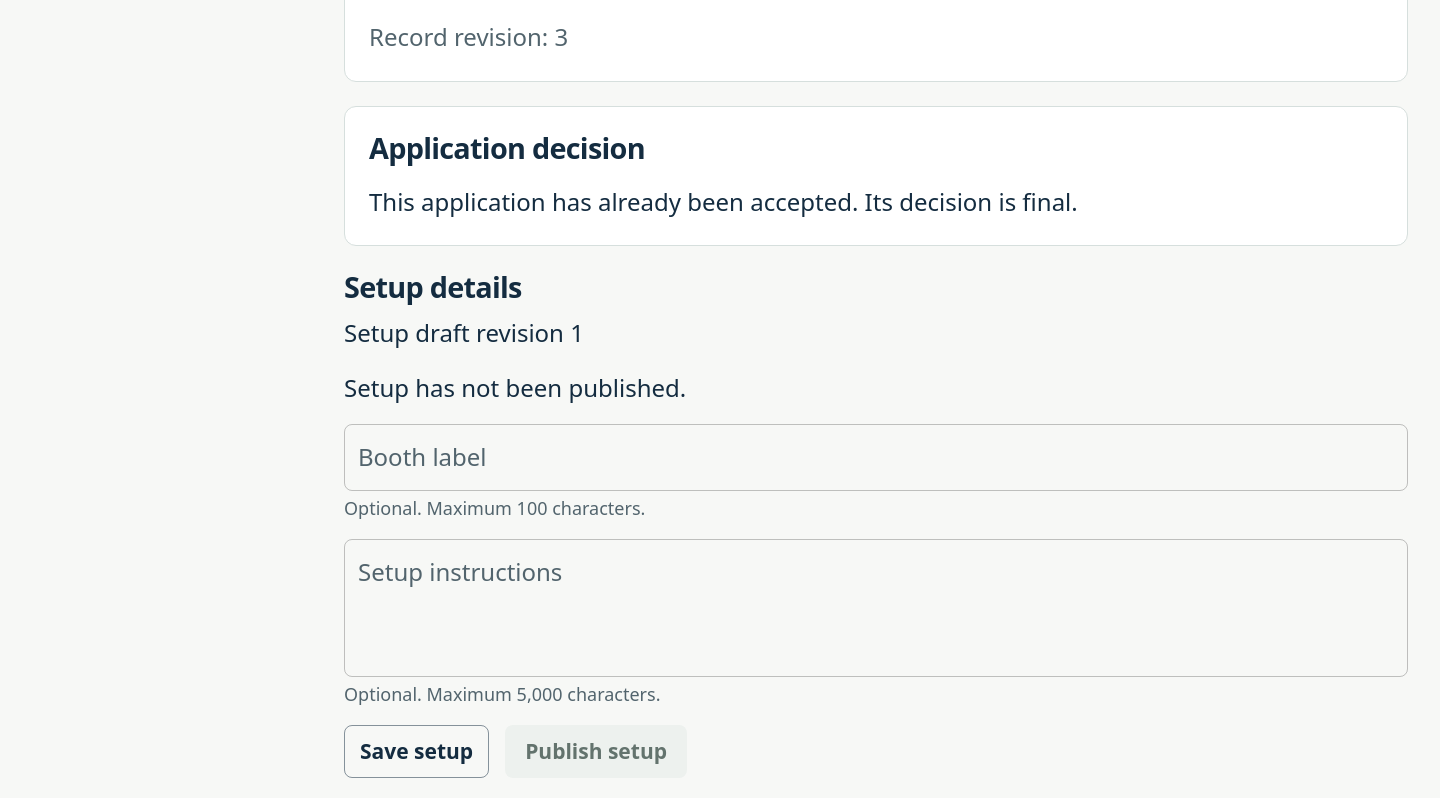
Test: AC05 rejected publication maps safe field error and retains edited facts without replay
This screenshot has width=1440, height=798.
(page scrolled)
Type "PRIVATE-BOOTH-A1" into the field labelled "Booth label". click: (876, 458)
box: [344, 424, 1408, 491]
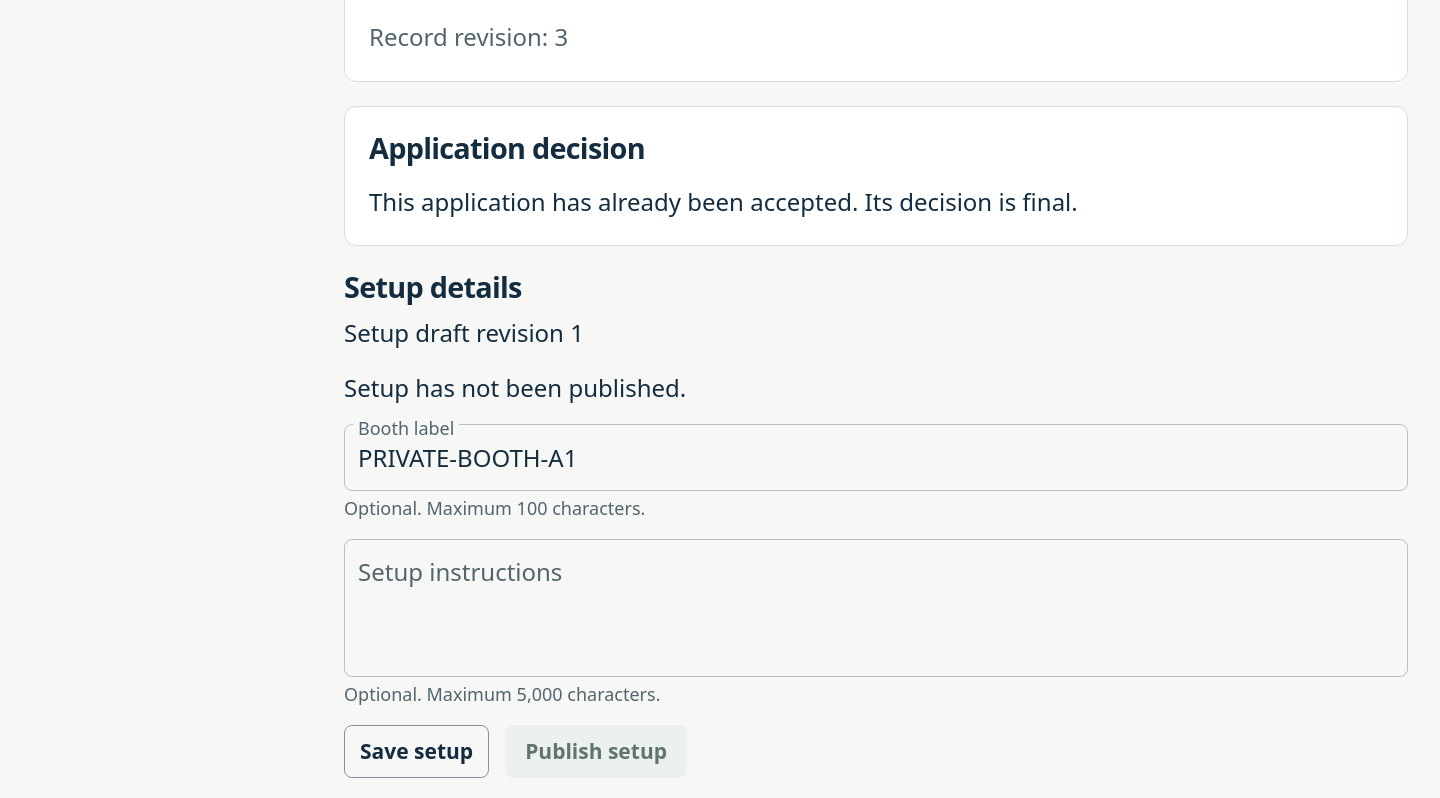
Type "PRIVATE-SETUP-INSTRUCTIONS" into the text box labelled "Setup instructions". click: (876, 608)
box: [358, 556, 1394, 661]
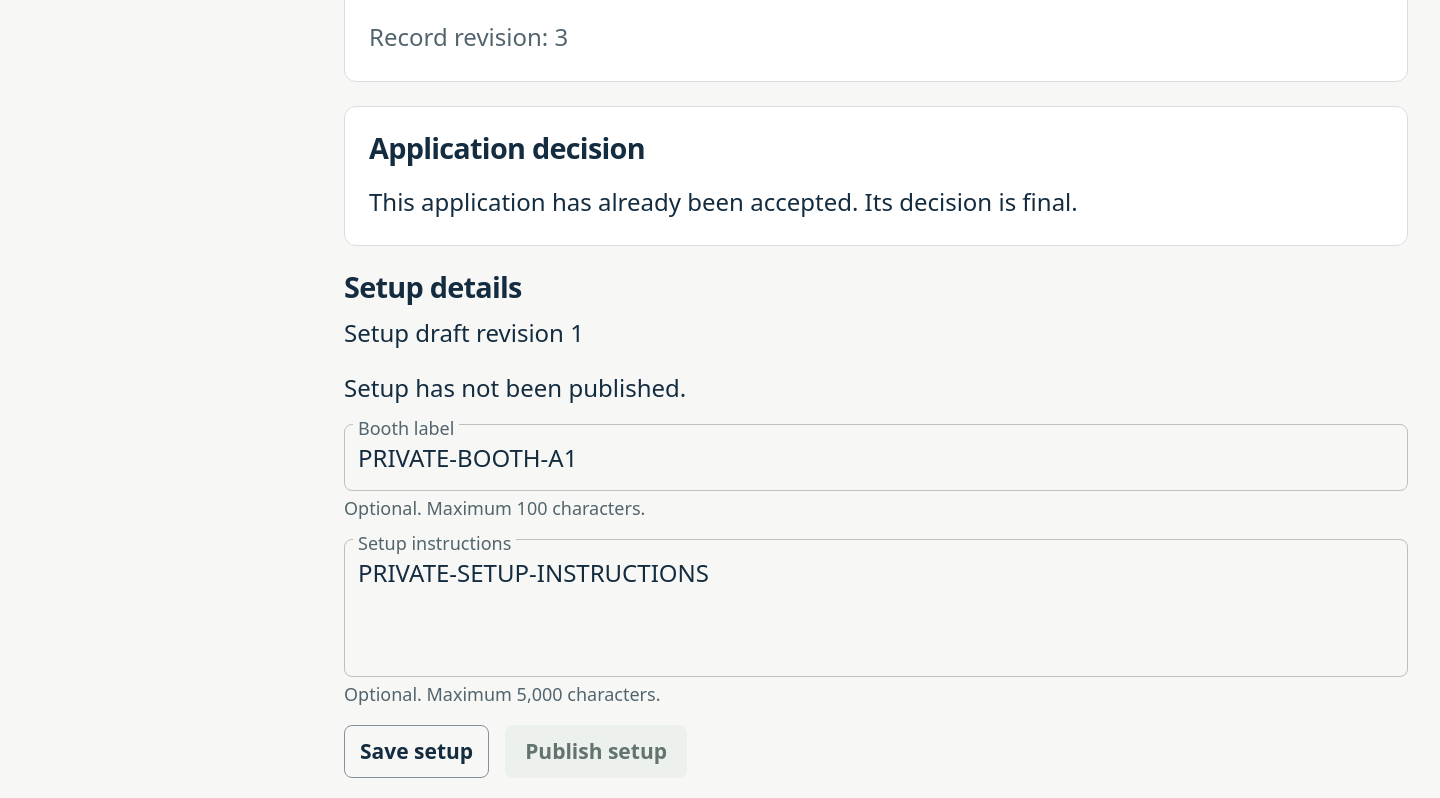
Click the button "Save setup". click: (417, 752)
box: [344, 725, 489, 778]
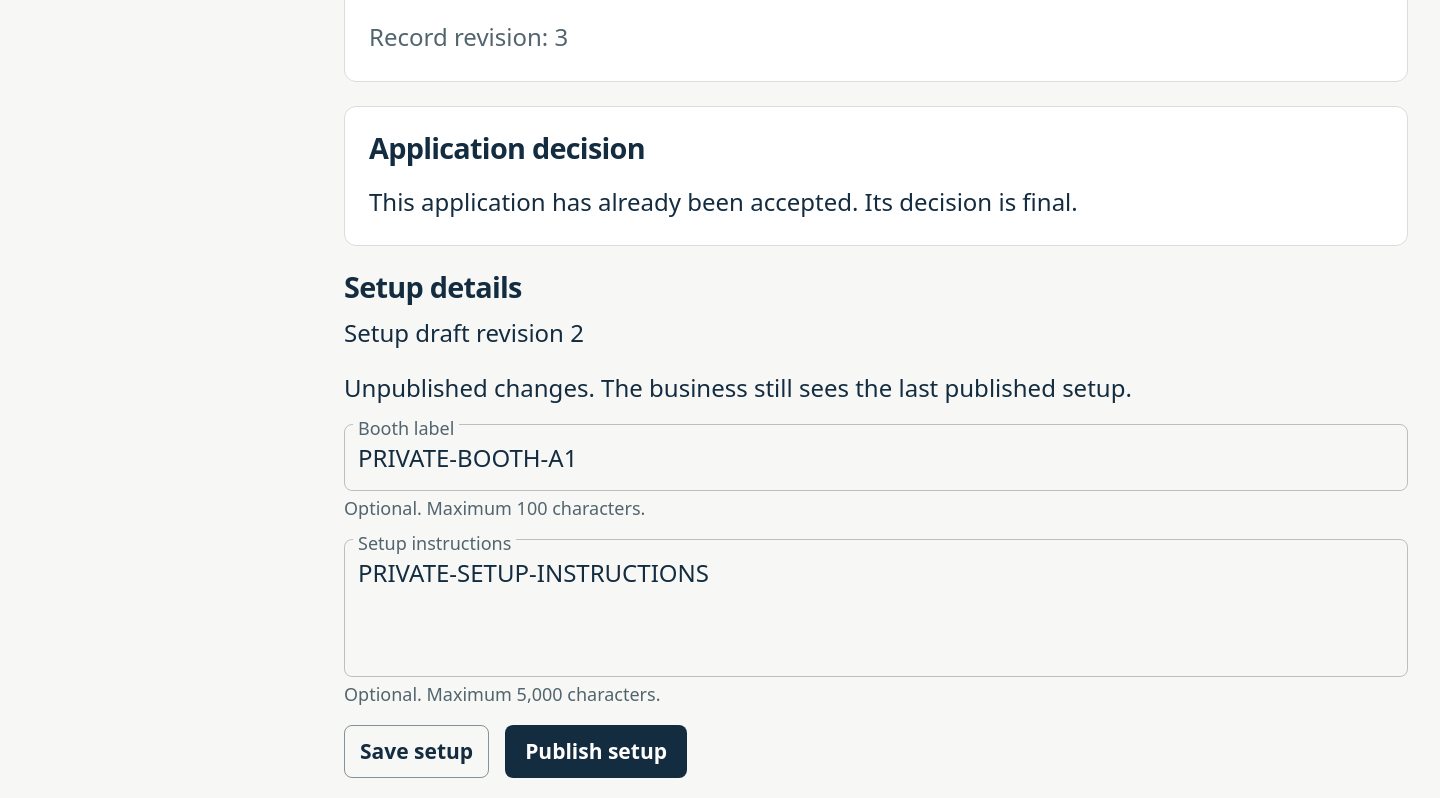
Now the button "Publish setup" is enabled
Click the button "Publish setup". click: (596, 752)
box: [505, 725, 687, 778]
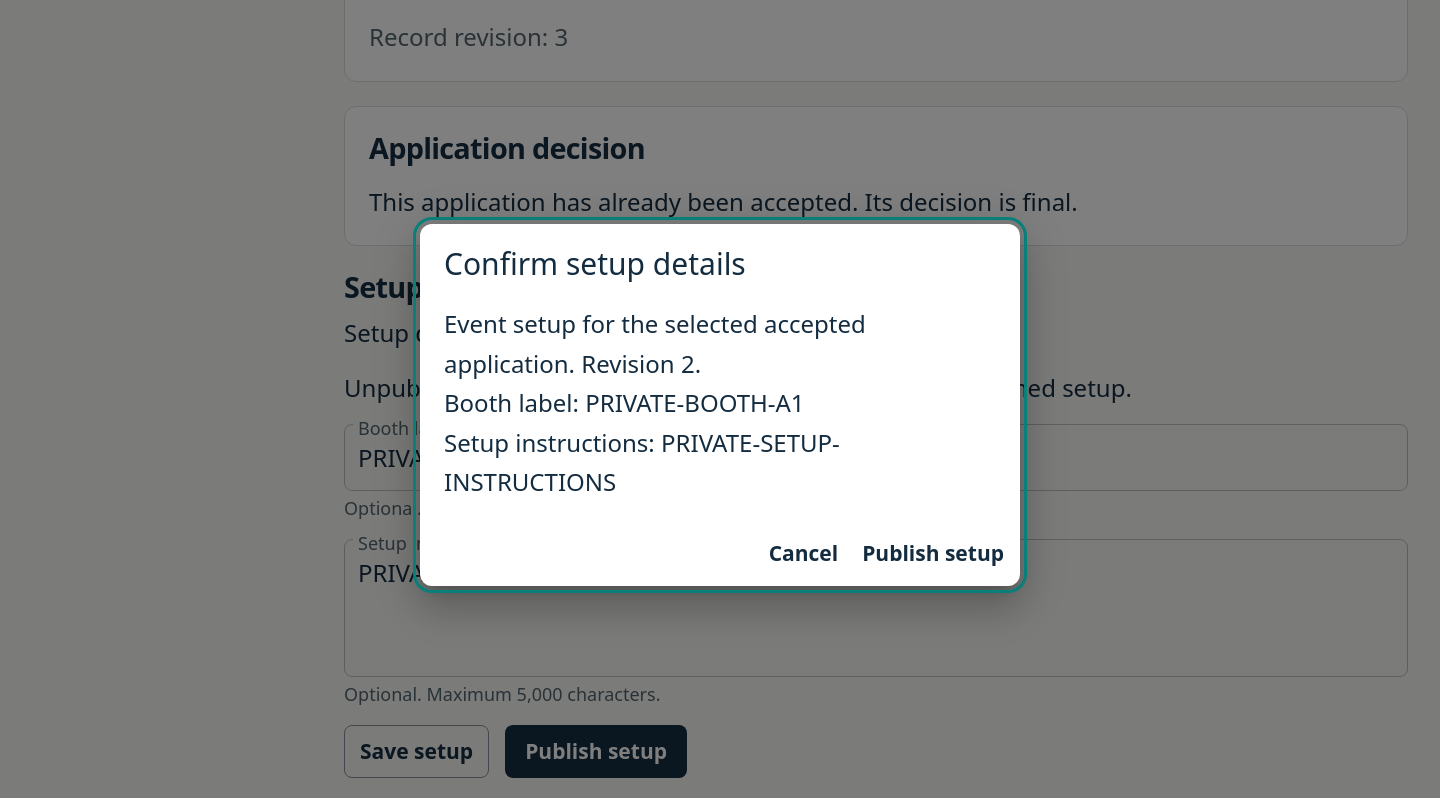
Click the button "Publish setup". click: (933, 554)
box: [854, 530, 1012, 578]
(page scrolled)
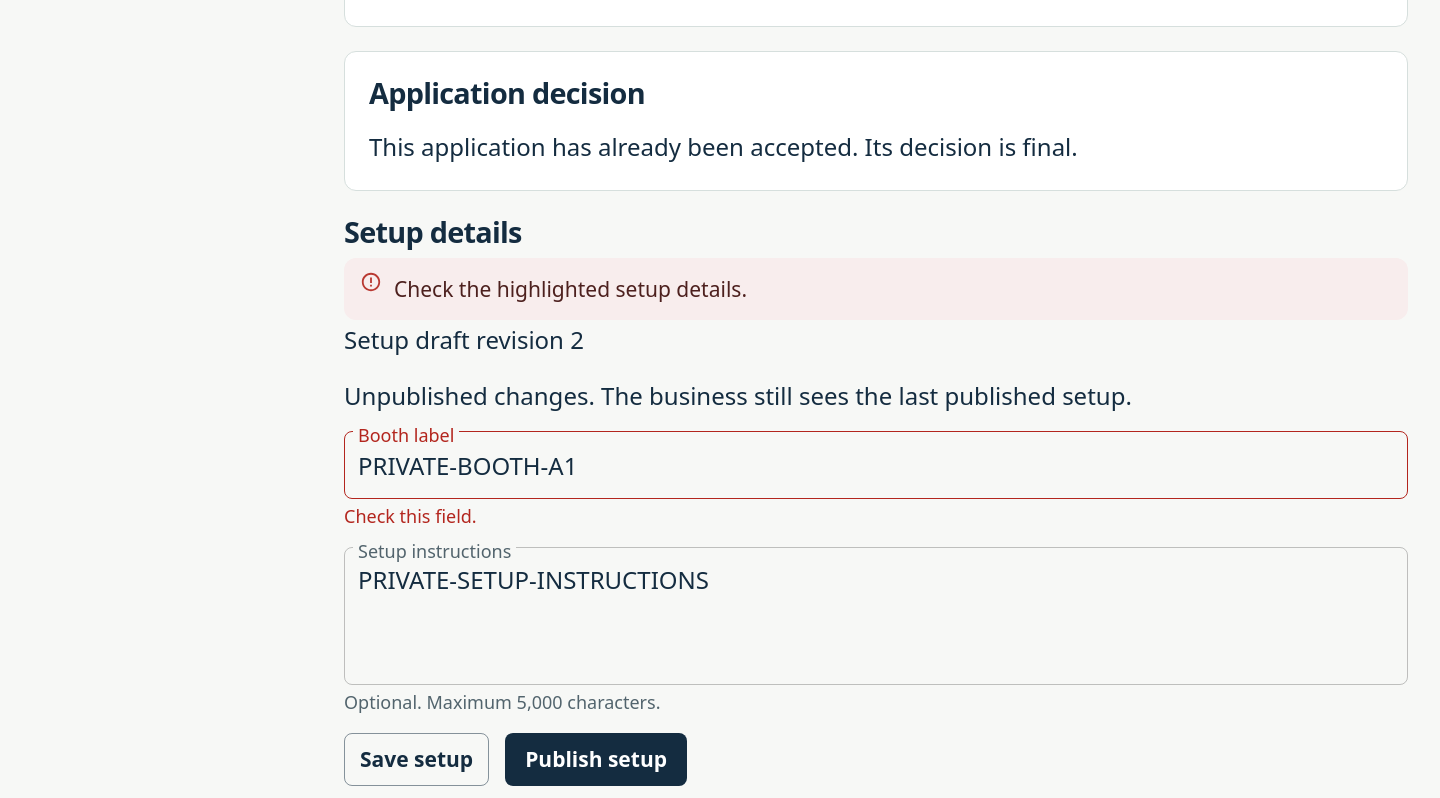
Now the message reads "Check the highlighted setup details.", box [394, 275, 747, 303]
